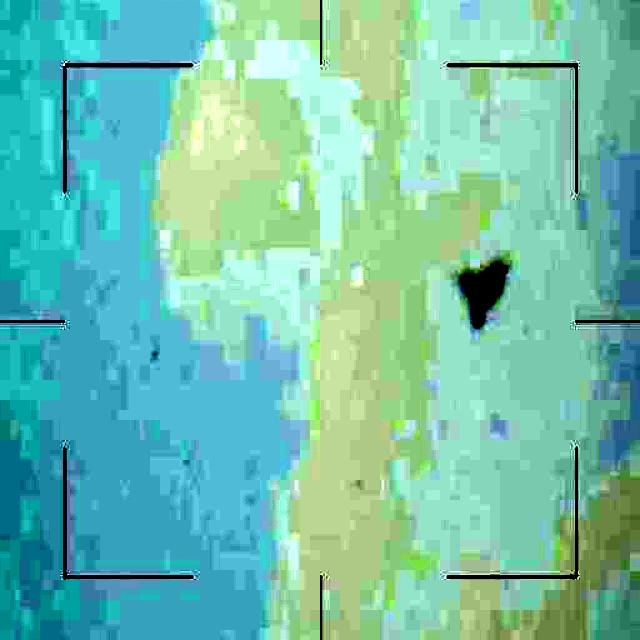bird: (462, 262, 515, 324)
